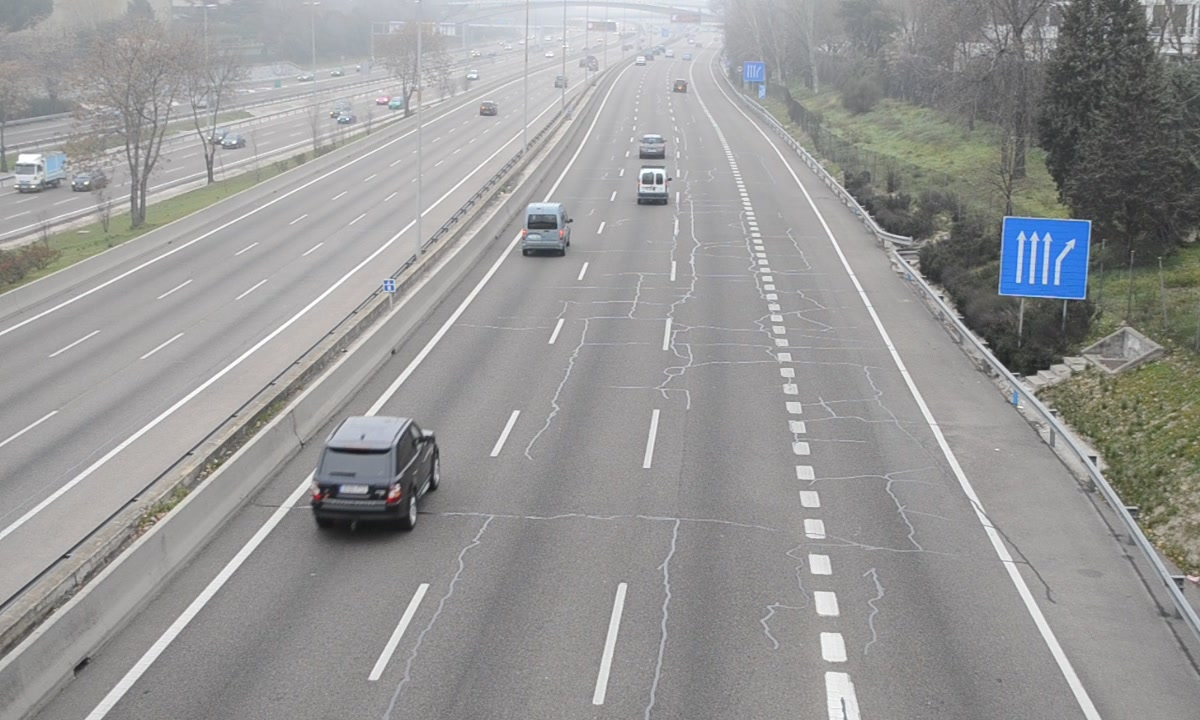car: (310, 417, 440, 521), (636, 133, 666, 160)
van: (522, 202, 568, 251), (636, 166, 669, 204)
